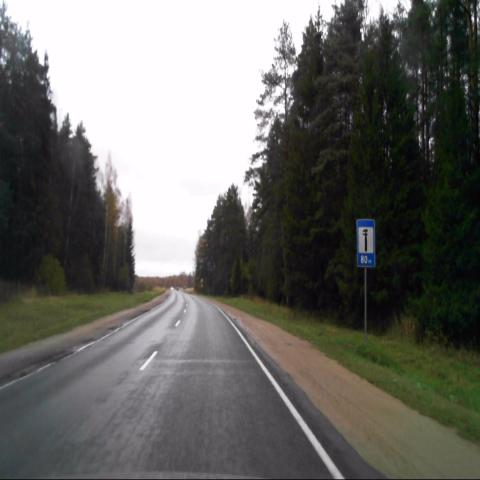7_4: (356, 218, 376, 267)
